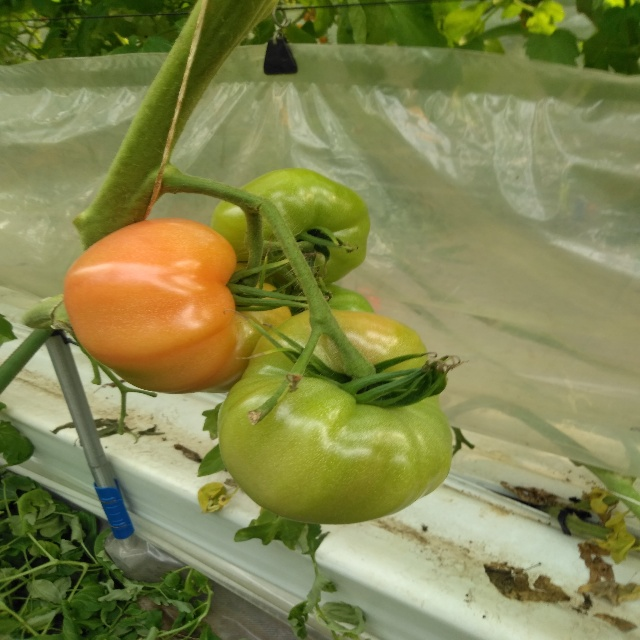b_green: (217, 309, 454, 525), (210, 168, 369, 290), (281, 284, 375, 315)
b_half_ripened: (63, 217, 292, 394)
